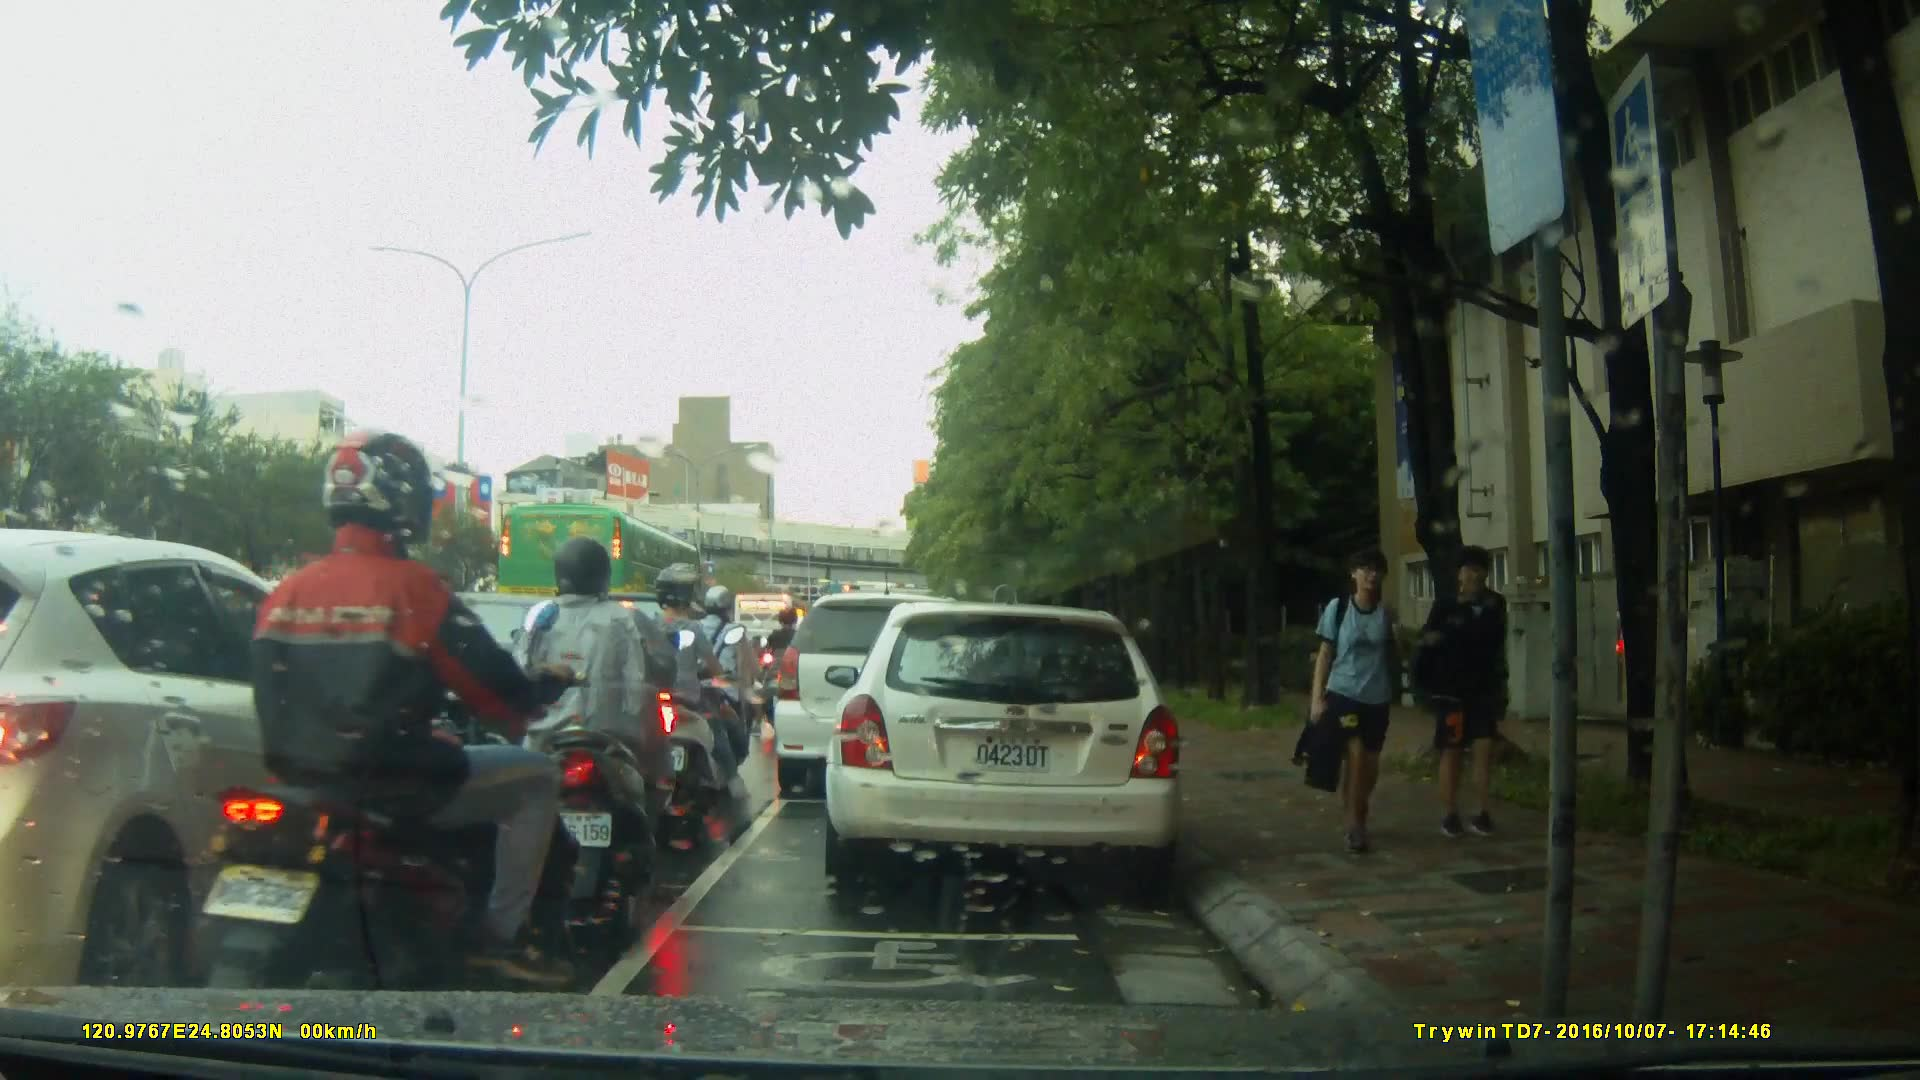pedestrian: (1290, 539, 1431, 856), (1430, 543, 1522, 848)
rider: (202, 426, 585, 1024), (508, 544, 698, 911), (629, 564, 739, 830), (686, 585, 761, 779), (762, 601, 807, 729)
vehicle: (1, 528, 453, 988), (831, 592, 1196, 897), (319, 590, 627, 786), (770, 590, 999, 803), (495, 501, 707, 636)
